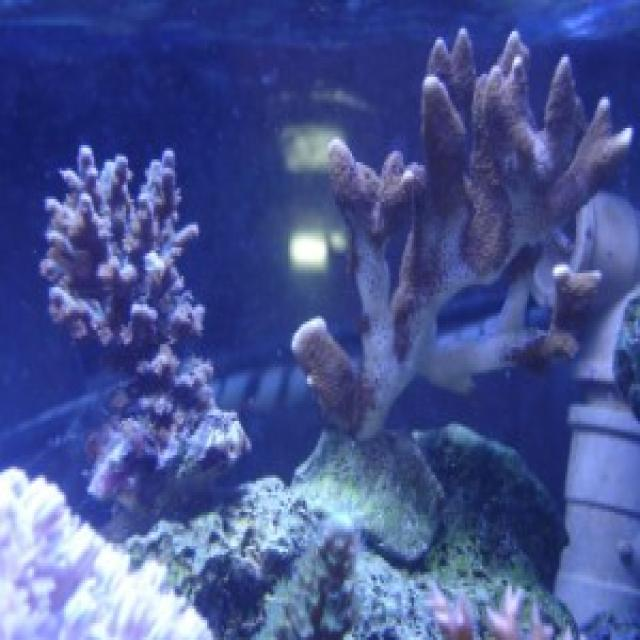Bleached: (40, 150, 253, 473), (355, 218, 545, 435), (1, 471, 220, 640)
Healthy: (332, 47, 630, 218), (305, 330, 354, 433), (548, 277, 595, 363)
